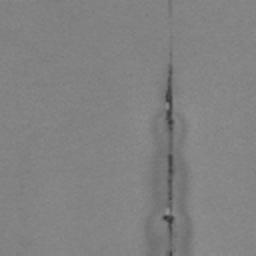Slag inclusion: (145, 61, 192, 256), (168, 0, 172, 14)
